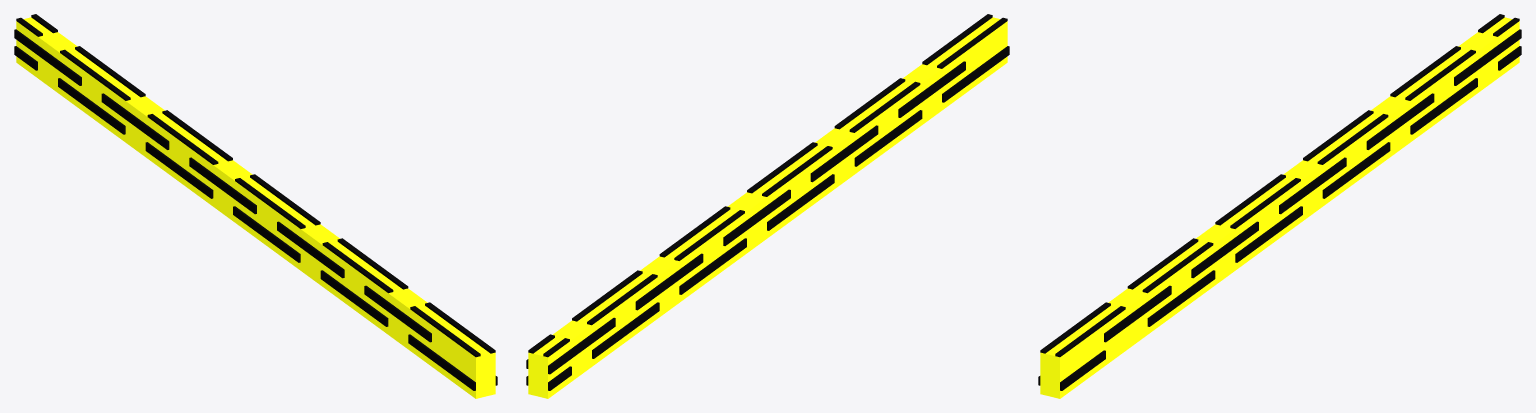
File: Border_long.fbx
3 views of the same model, side by side, from view 1: azimuth 30°, elevation 25°; view 2: azimuth 150°, elevation 25°; view 3: azimuth 330°, elevation 25° (orthographic).
Visible parts, largest first — view 1: Border_long; view 2: Border_long; view 3: Border_long.
Part boxes in pixels (x1,y1,x2,y2): Border_long: [14, 14, 497, 398]; Border_long: [526, 14, 1009, 398]; Border_long: [1038, 14, 1521, 398].
Bounding box in the file's own units: 0.6 × 1.1 × 20.
